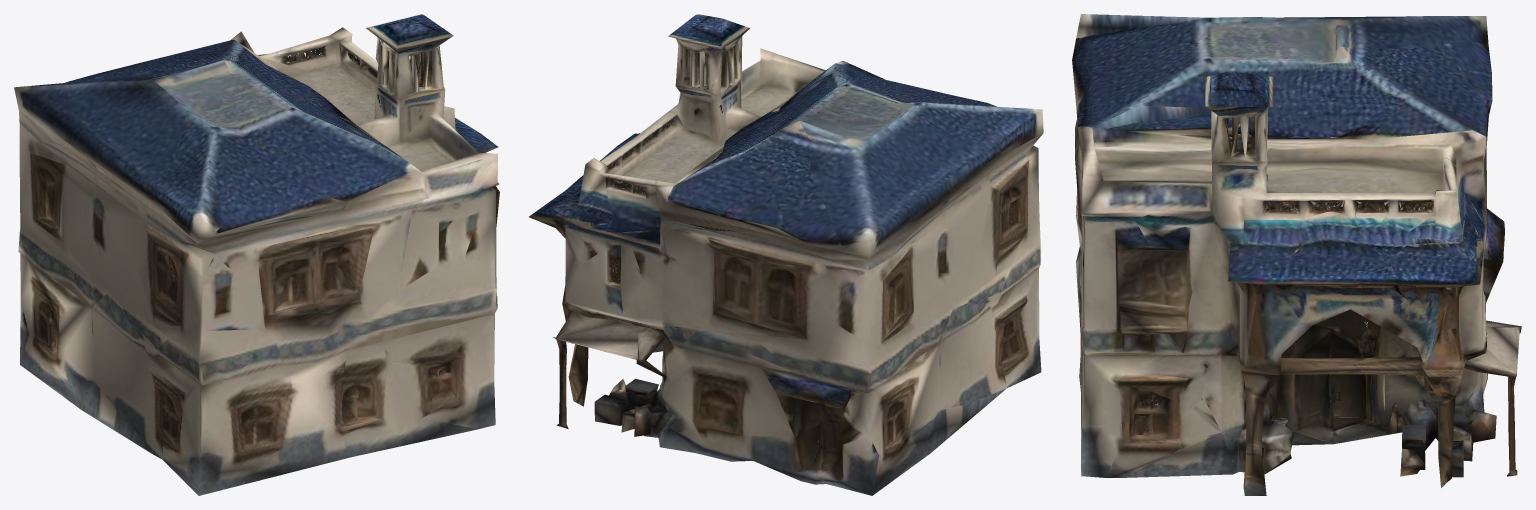
File: house_merchant_2.glb
3 renders of one model, left to right at view 1: azimuth 30°, elevation 25°; view 2: azimuth 150°, elevation 25°; view 3: azimuth 270°, elevation 25°, orthographic. The views are drawn at different scales.
Parts seen in each view (by area): view 1: tripo_node_85479c51-2ba2-4342-b6e5-ea57296c1e8c; view 2: tripo_node_85479c51-2ba2-4342-b6e5-ea57296c1e8c; view 3: tripo_node_85479c51-2ba2-4342-b6e5-ea57296c1e8c.
Boxes of the visible parts, <box> form: tripo_node_85479c51-2ba2-4342-b6e5-ea57296c1e8c: <box>14,14,499,495</box>; tripo_node_85479c51-2ba2-4342-b6e5-ea57296c1e8c: <box>529,14,1043,495</box>; tripo_node_85479c51-2ba2-4342-b6e5-ea57296c1e8c: <box>1072,14,1521,495</box>.
Bounding box in the file's own units: 0.9579 × 0.8836 × 0.9176.
1 material, 1 textured.
